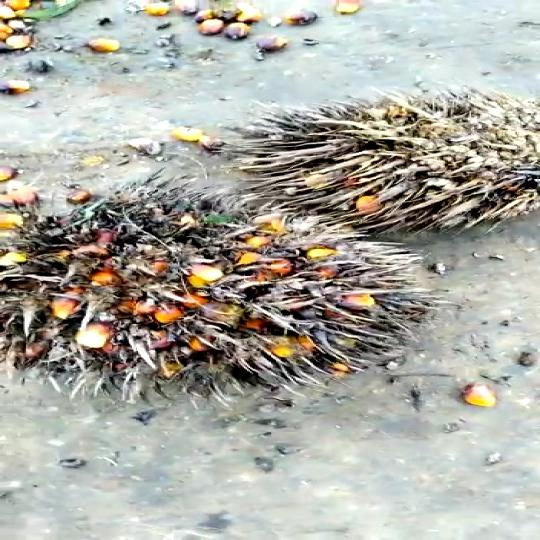terlalu masak: (0, 194, 443, 387), (226, 97, 540, 236)
